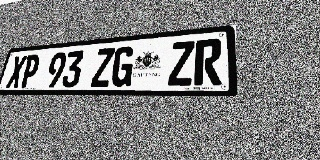3: (61, 50, 85, 87)
9: (45, 52, 68, 88)
G: (110, 46, 135, 87)
P: (19, 54, 41, 88)
R: (194, 38, 222, 86)
X: (6, 55, 27, 88)
Z: (168, 41, 195, 86), (90, 48, 115, 87)
